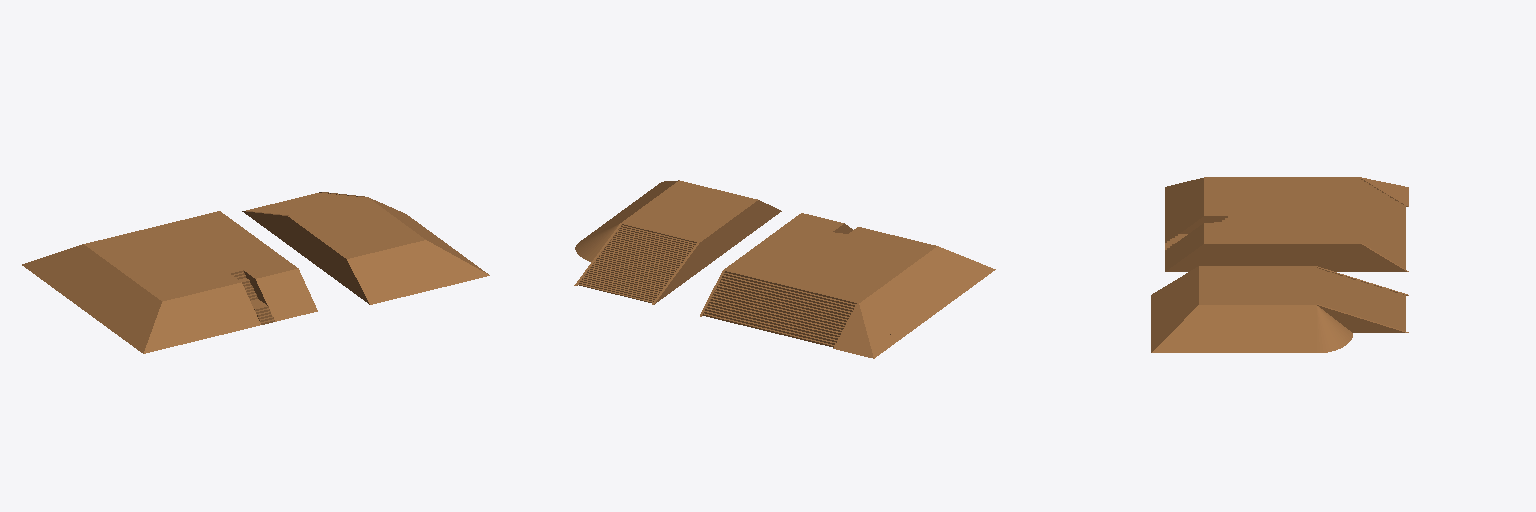
Rendered from podio.obj.
The picture shows the model from 3 angles: view 1: azimuth 30°, elevation 25°; view 2: azimuth 150°, elevation 25°; view 3: azimuth 270°, elevation 25°; orthographic projection.
Visible parts, largest first — view 1: obj_0.001_color_[number redacted]; view 2: obj_0.001_color_[number redacted]; view 3: obj_0.001_color_[number redacted].
Boxes of the visible parts, box(x1,y1,x2,y2) form: obj_0.001_color_[number redacted]: box(22, 192, 489, 353); obj_0.001_color_[number redacted]: box(574, 180, 995, 358); obj_0.001_color_[number redacted]: box(1151, 177, 1408, 352).
Size of the model in its own units: 150 by 12 by 98.